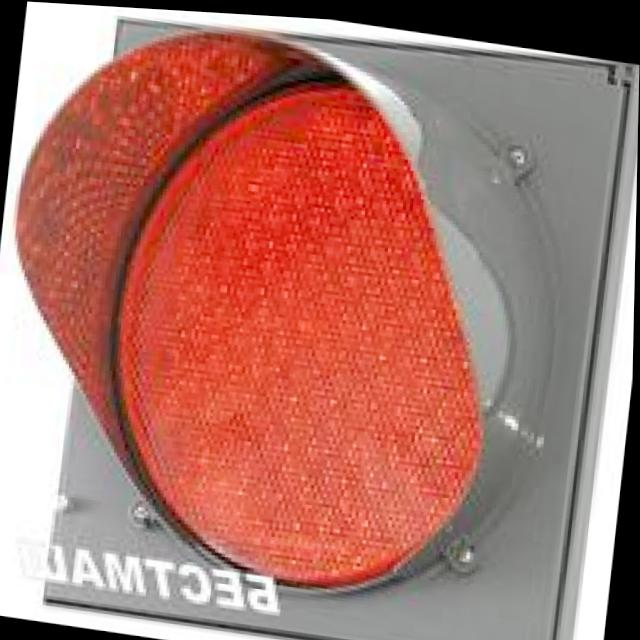red_light: (0, 34, 580, 564)
